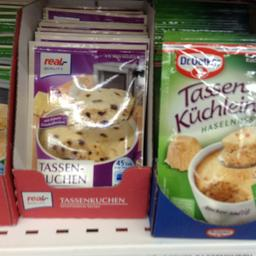cake: (158, 28, 255, 226), (26, 38, 148, 194)
